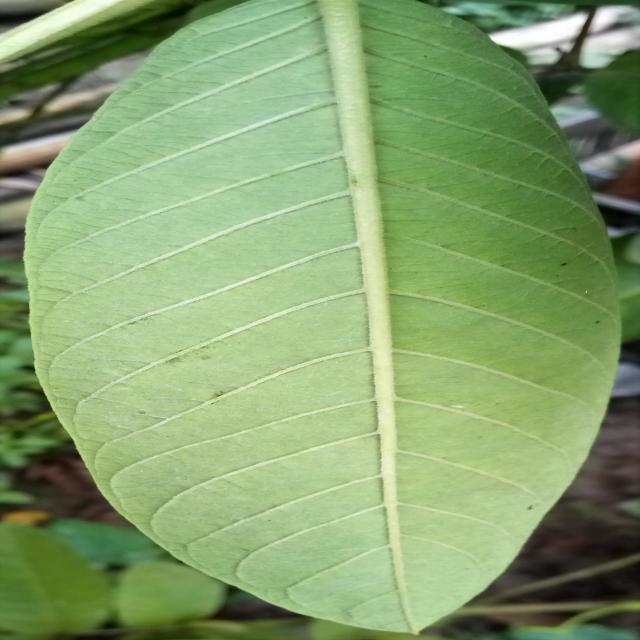Disease Free: (26, 0, 622, 632)
